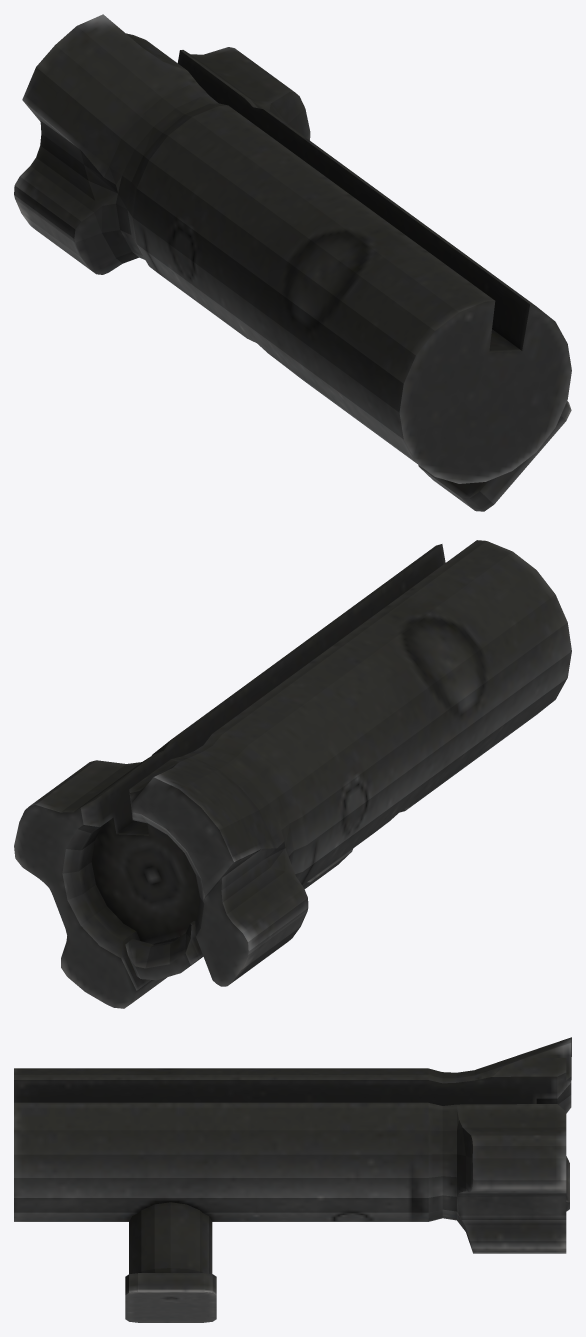
The picture shows the model from 3 angles, top to bottom: view 1: azimuth 30°, elevation 25°; view 2: azimuth 150°, elevation 25°; view 3: azimuth 270°, elevation 25°; orthographic projection. The views are drawn at different scales.
Visible parts, largest first — view 1: TW_58948c8e86f77409493f7266_PZ_Import; view 2: TW_58948c8e86f77409493f7266_PZ_Import; view 3: TW_58948c8e86f77409493f7266_PZ_Import.
Boxes of the visible parts, x1,y1,x2,y2 form: TW_58948c8e86f77409493f7266_PZ_Import: (14, 14, 571, 511); TW_58948c8e86f77409493f7266_PZ_Import: (14, 540, 571, 1008); TW_58948c8e86f77409493f7266_PZ_Import: (14, 1037, 571, 1322).
Bounding box in the file's own units: 0.0129 × 0.0287 × 0.0139.
1 material, 1 textured.
